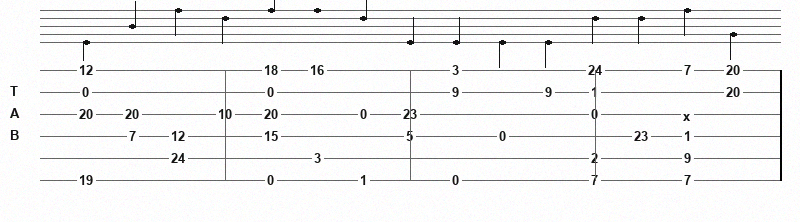0: (82, 85, 93, 99), (267, 85, 278, 99), (267, 173, 278, 187), (360, 107, 371, 121), (452, 173, 463, 187), (499, 129, 510, 143), (591, 107, 602, 121)
1: (360, 173, 371, 187), (591, 85, 602, 99), (684, 129, 695, 143)
10: (218, 107, 236, 121)
12: (79, 63, 97, 77), (171, 129, 189, 143)
15: (264, 129, 282, 143)
16: (310, 63, 328, 77)
18: (264, 63, 282, 77)
19: (79, 173, 97, 187)
2: (591, 151, 602, 165)
20: (79, 107, 97, 121), (125, 107, 143, 121), (264, 107, 282, 121), (726, 63, 744, 77), (726, 85, 744, 99)
23: (403, 107, 421, 121), (634, 129, 652, 143)
24: (171, 151, 189, 165), (588, 63, 606, 77)
3: (314, 151, 325, 165), (452, 63, 463, 77)
5: (406, 129, 417, 143)
7: (129, 129, 140, 143), (591, 173, 602, 187), (684, 63, 695, 77), (684, 173, 695, 187)
9: (452, 85, 463, 99), (545, 85, 556, 99), (684, 151, 695, 165)
x: (683, 109, 695, 120)
